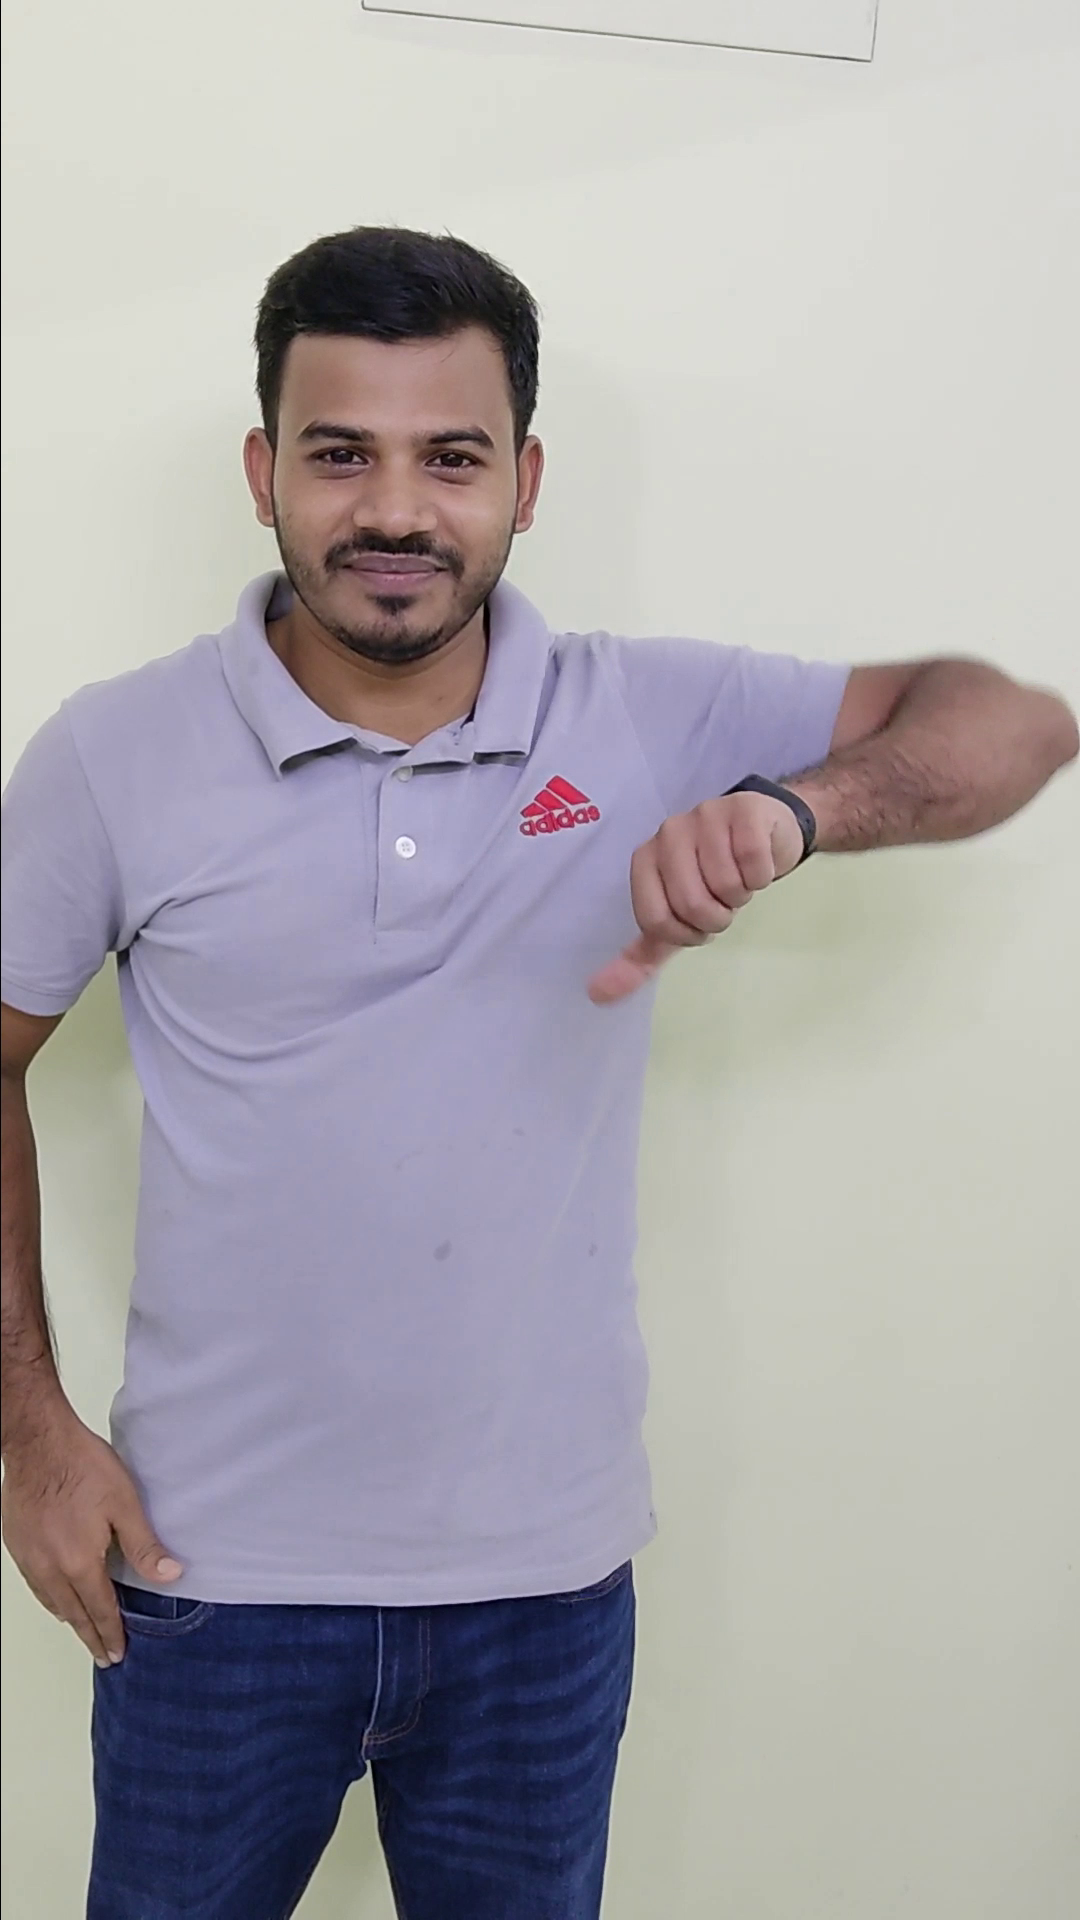Dislike: (568, 744, 843, 1071)
None: (4, 1385, 196, 1675)
